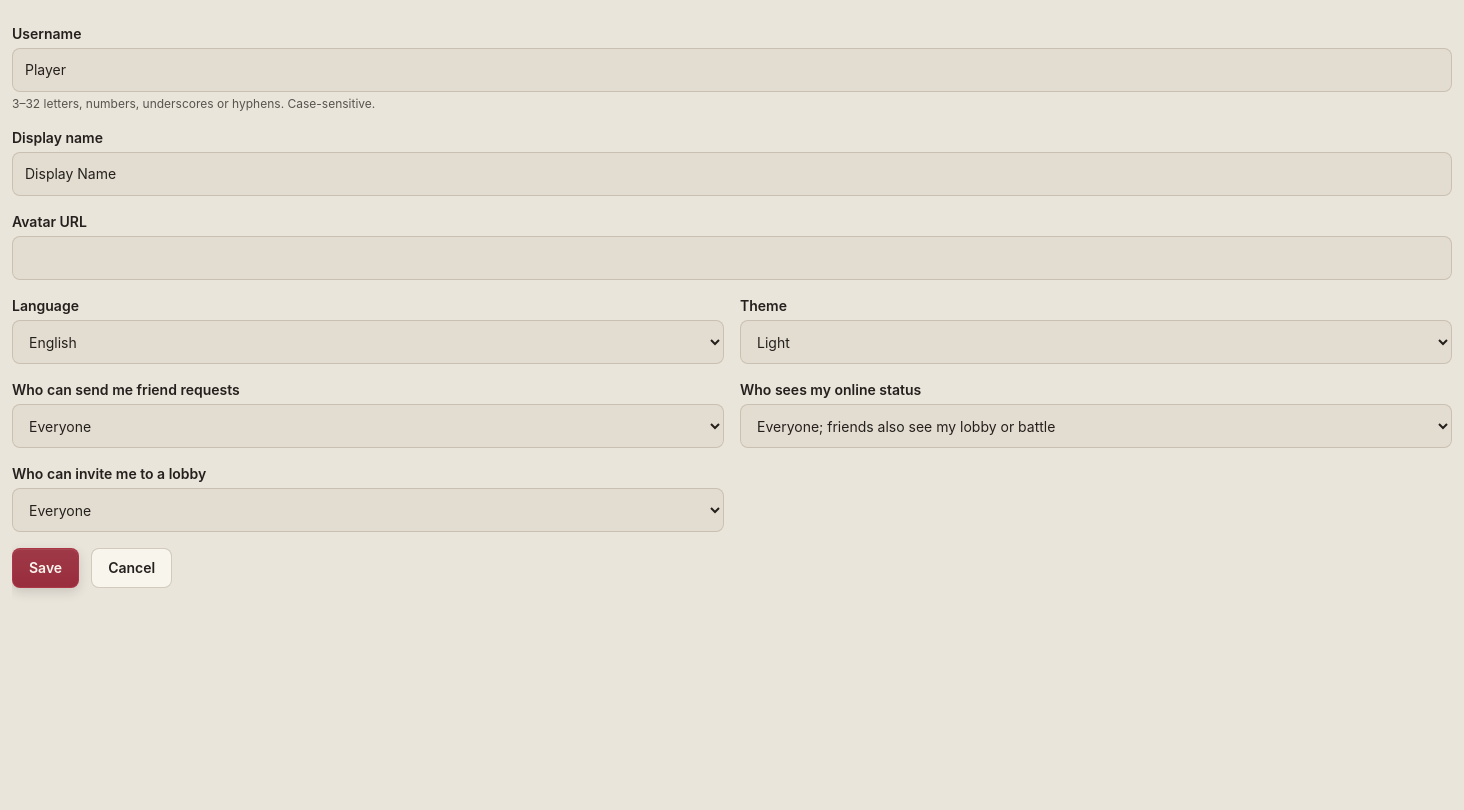
Test case: form handles conflicts, preserves drafts and rejects dangerous avatar URLs
Replace the text in the field labelled "Username" with "Taken": (732, 70) [12,48,1452,92]
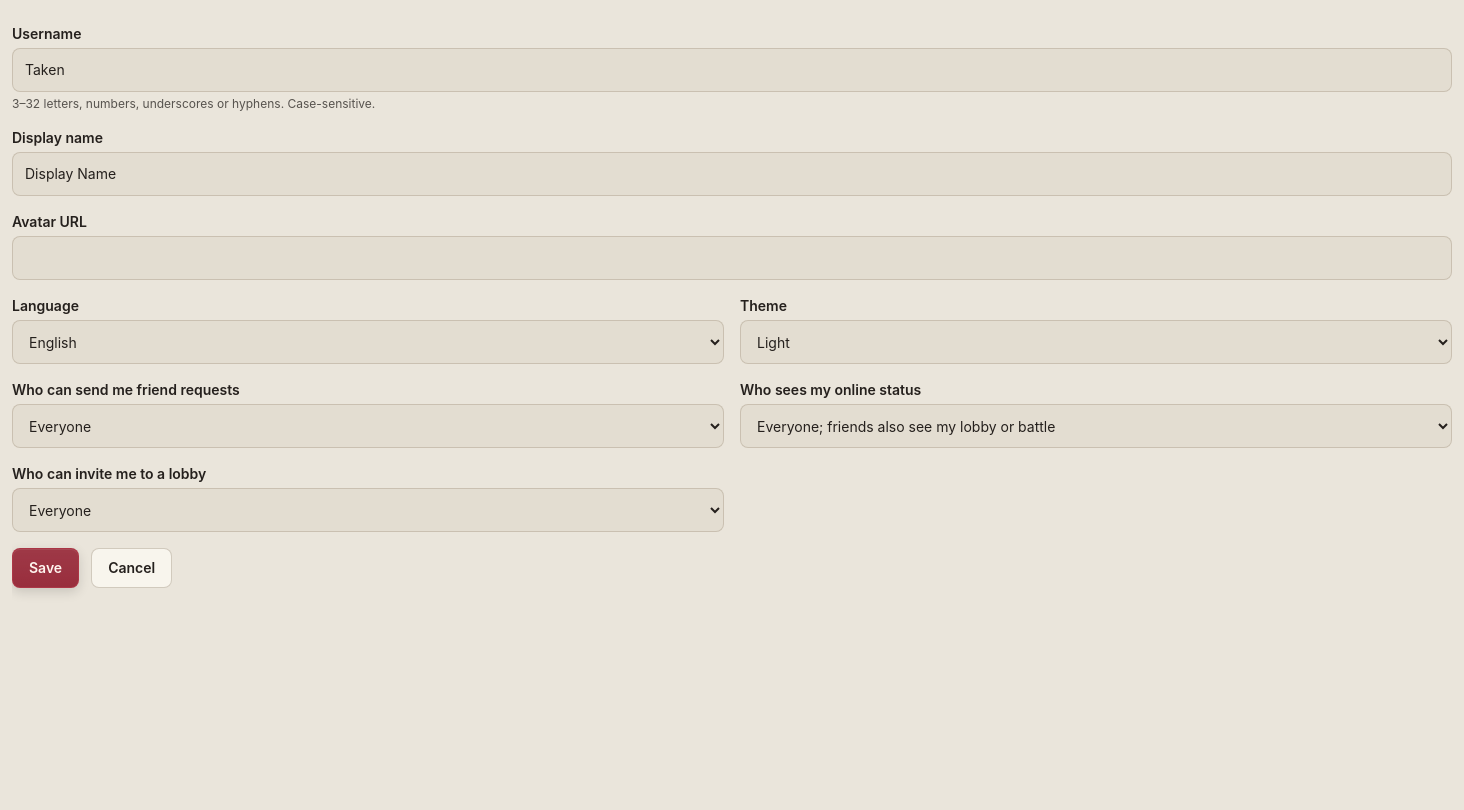
Submit the form
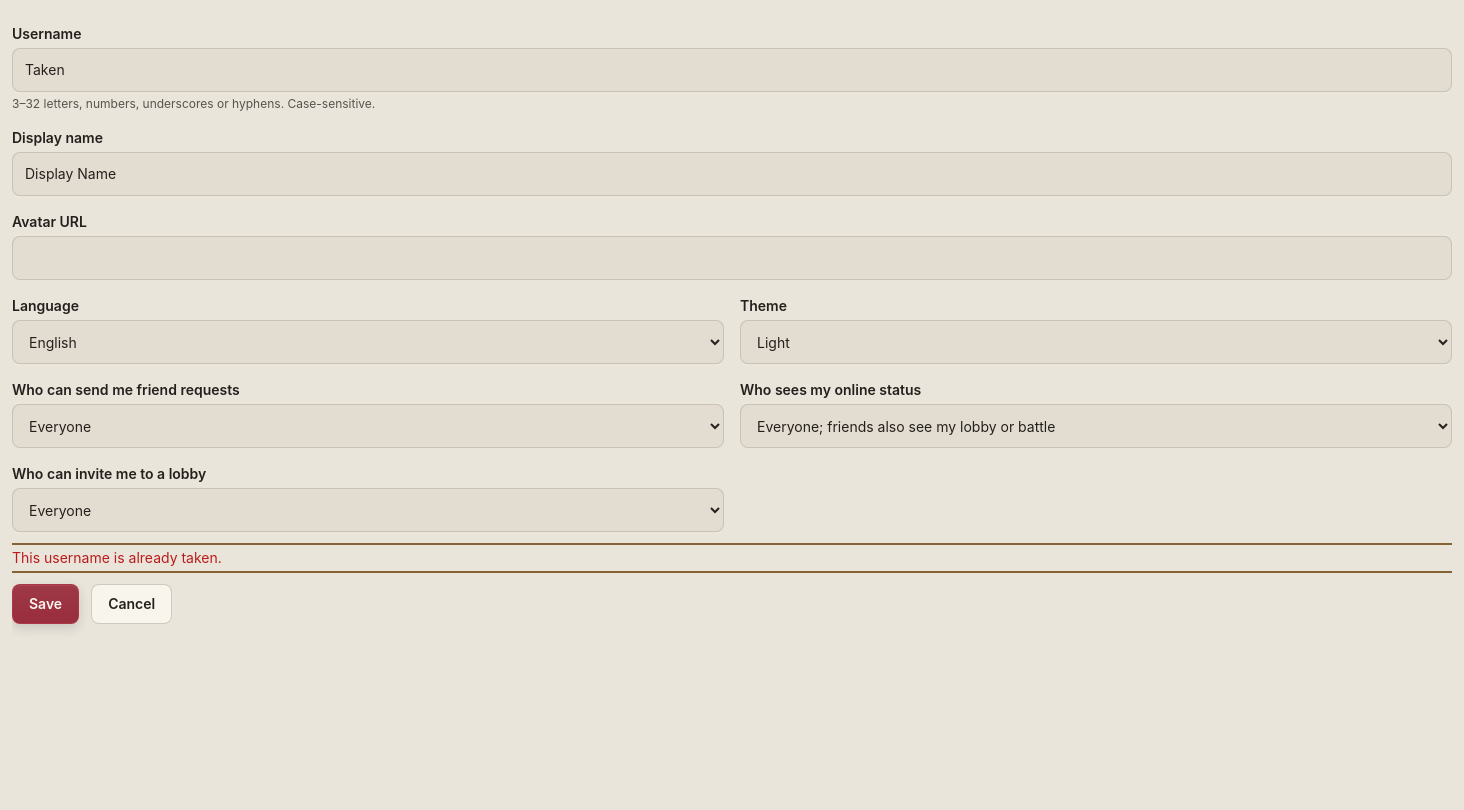
Now the message "This username is already taken." is shown, box [12,549,222,566]
In the field labelled "Avatar URL": (732, 258) [12,236,1452,280], type "javascript:alert(1)"
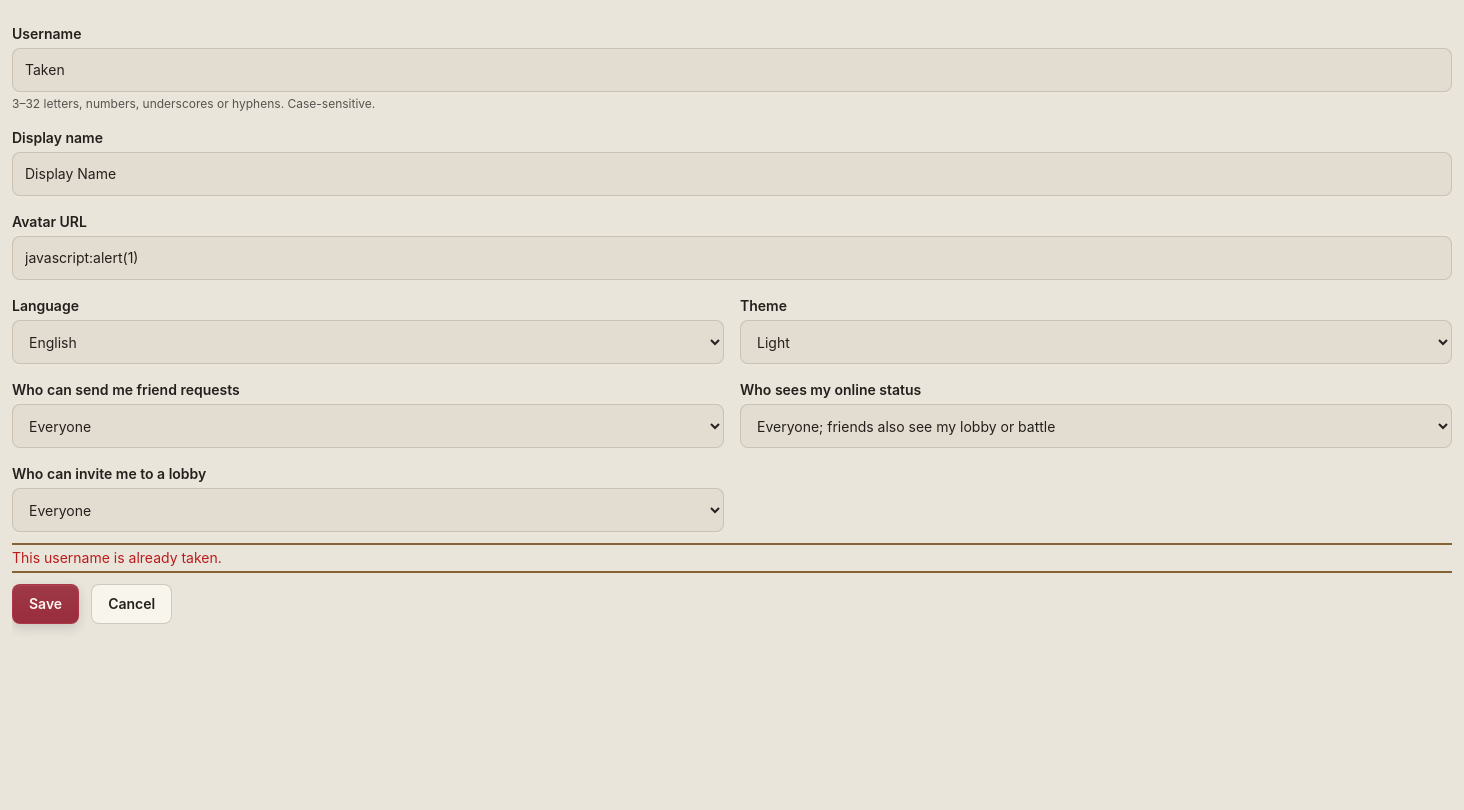
Submit the form
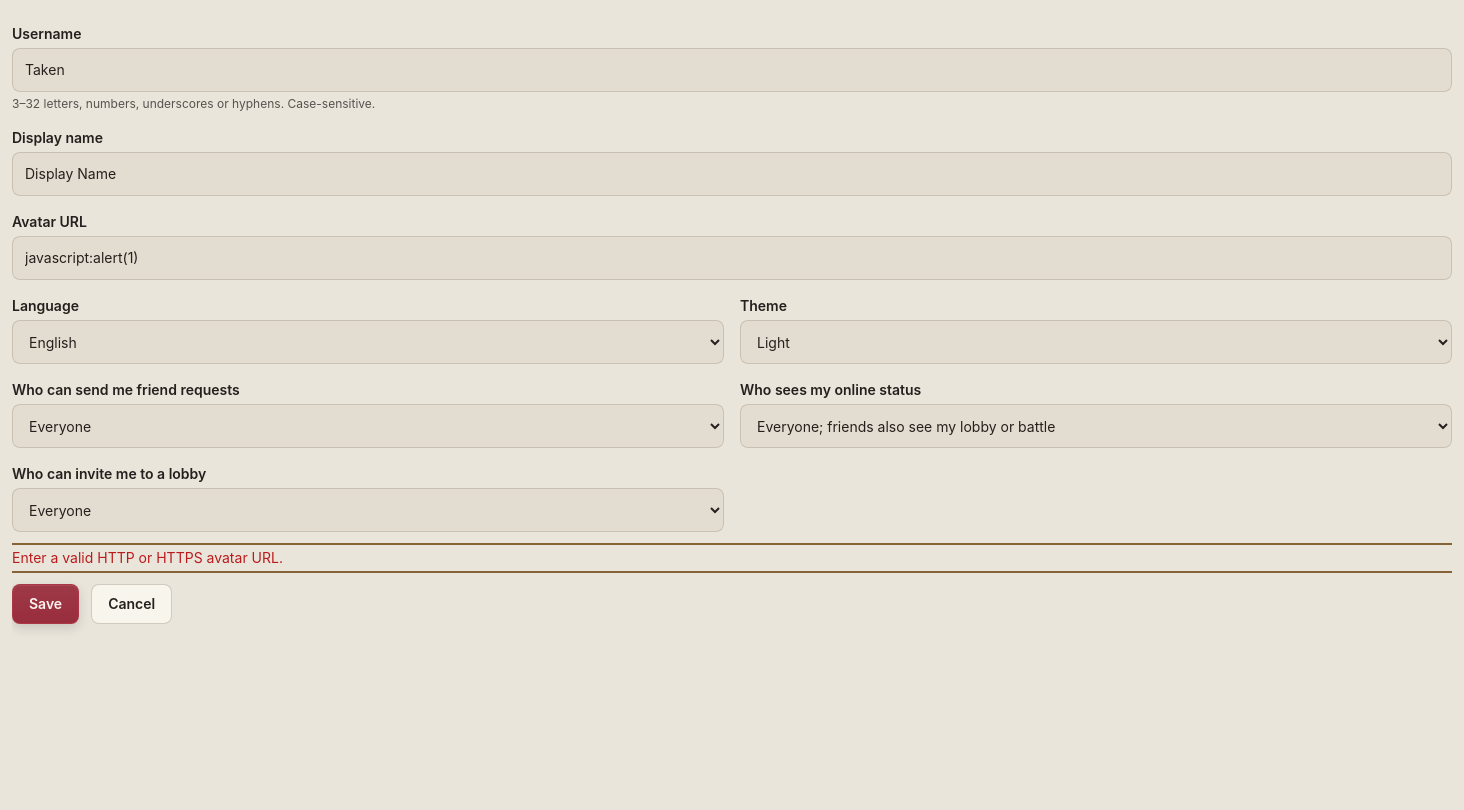
Now the message "Enter a valid HTTP or HTTPS avatar URL." is shown, box [12,549,283,566]
